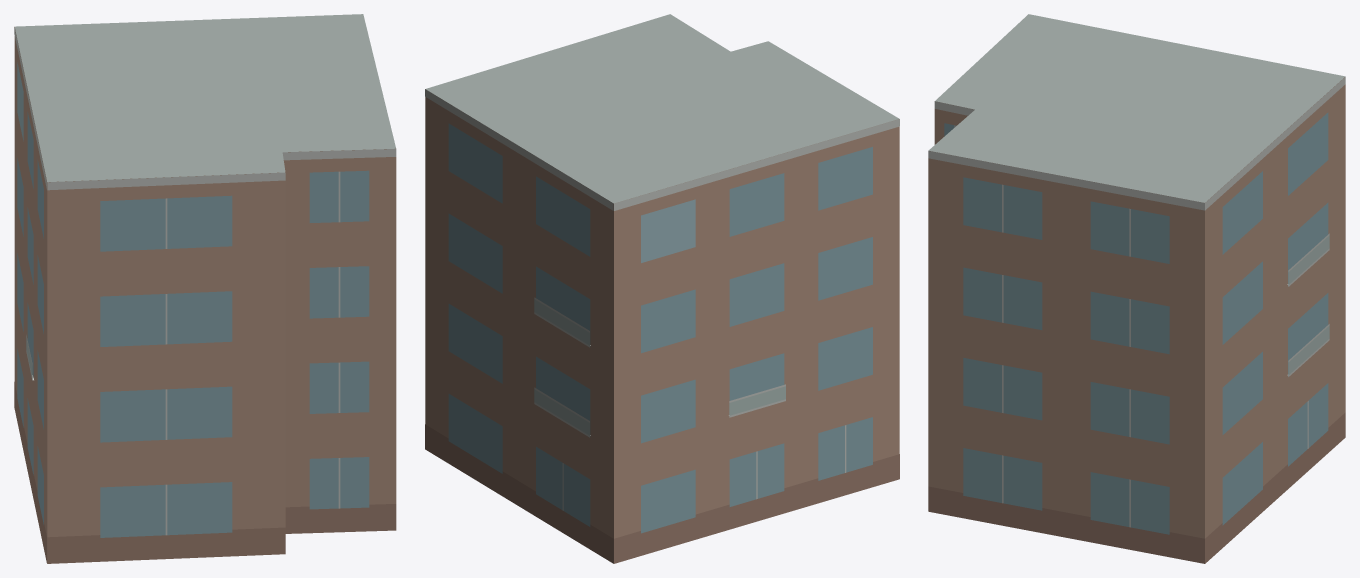
The model's file is survey-upis-32509608.glb.
3 views of the same model, side by side, from view 1: azimuth 30°, elevation 25°; view 2: azimuth 150°, elevation 25°; view 3: azimuth 270°, elevation 25° (orthographic). The views are drawn at different scales.
Visible parts, largest first — view 1: survey-upis-32509608.tmp; view 2: survey-upis-32509608.tmp; view 3: survey-upis-32509608.tmp.
Boxes of the visible parts, left/top/right/bottom form: survey-upis-32509608.tmp: left=14, top=14, right=396, bottom=563; survey-upis-32509608.tmp: left=425, top=14, right=899, bottom=563; survey-upis-32509608.tmp: left=928, top=14, right=1345, bottom=563.
Bounding box in the file's own units: 12.92 × 11.5 × 12.06.
